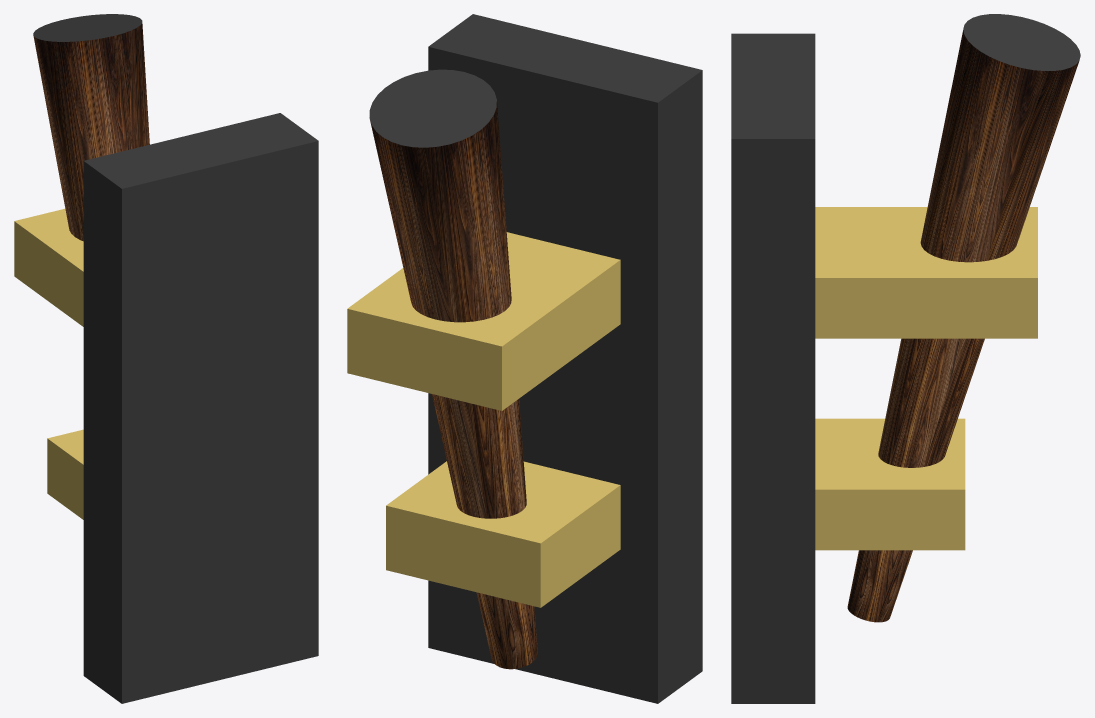
The model's file is torch.fbx.
The picture shows the model from 3 angles, left to right: view 1: azimuth 30°, elevation 25°; view 2: azimuth 150°, elevation 25°; view 3: azimuth 270°, elevation 25°; orthographic projection. The views are drawn at different scales.
Visible parts, largest first — view 1: Cube.004, Circle, Cube.005, Cube.006; view 2: Cube.004, Circle, Cube.005, Cube.006; view 3: Cube.004, Circle, Cube.005, Cube.006.
Part boxes in pixels (bbox=[...]): Cube.004: bbox=[83, 113, 318, 703]; Circle: bbox=[33, 14, 149, 241]; Cube.005: bbox=[14, 208, 83, 326]; Cube.006: bbox=[47, 429, 83, 519]; Cube.004: bbox=[428, 14, 702, 703]; Circle: bbox=[369, 69, 537, 669]; Cube.005: bbox=[347, 232, 620, 410]; Cube.006: bbox=[386, 461, 620, 607]; Cube.004: bbox=[731, 33, 815, 703]; Circle: bbox=[847, 14, 1080, 622]; Cube.005: bbox=[815, 207, 1037, 338]; Cube.006: bbox=[815, 418, 965, 550].
Size of the model in its own units: 200 by 550 by 280.
